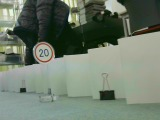speed_20: (30, 41, 56, 65)
